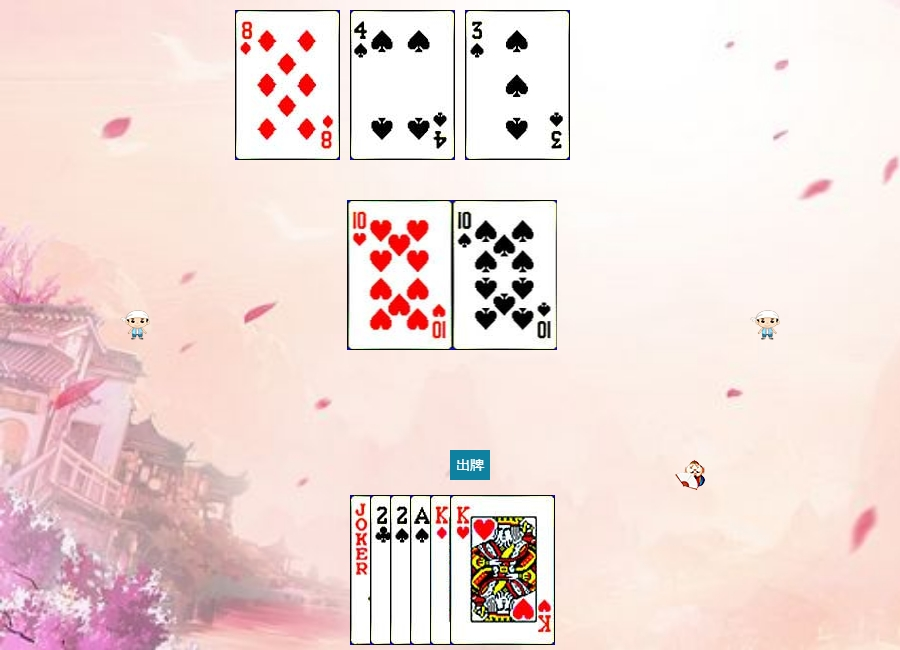10~3: (348, 200, 453, 350)
10~4: (453, 200, 558, 350)
13~1: (430, 495, 535, 645)
13~3: (450, 495, 555, 645)
14~4: (410, 495, 515, 645)
15~2: (370, 495, 475, 645)
15~4: (390, 495, 495, 645)
18~4: (350, 495, 455, 645)
3~4: (465, 10, 570, 160)
4~4: (350, 10, 455, 160)
8~1: (235, 10, 340, 160)
